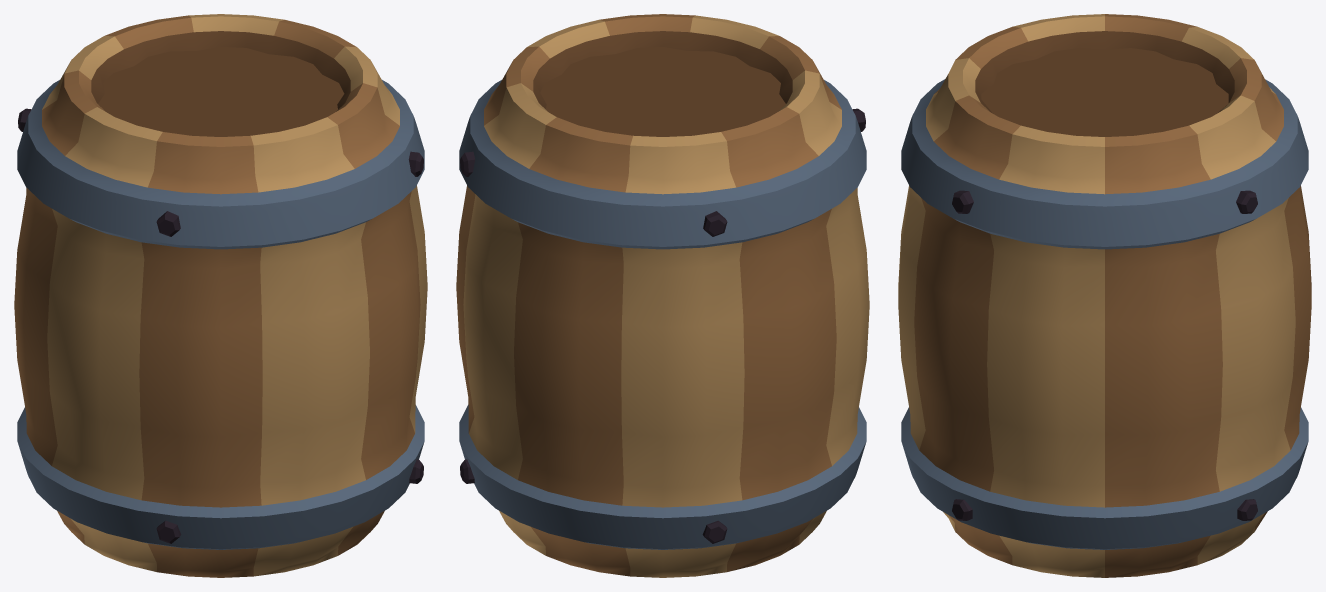
The model's file is Barrel_03.glb.
The picture shows the model from 3 angles, left to right: view 1: azimuth 30°, elevation 25°; view 2: azimuth 150°, elevation 25°; view 3: azimuth 270°, elevation 25°; orthographic projection.
Visible parts, largest first — view 1: Barrel_03; view 2: Barrel_03; view 3: Barrel_03.
Part boxes in pixels (x1,y1,x2,y2): Barrel_03: (14,14,427,577); Barrel_03: (456,14,869,577); Barrel_03: (898,14,1311,577).
Bounding box in the file's own units: 1.98 × 2.33 × 1.99.
